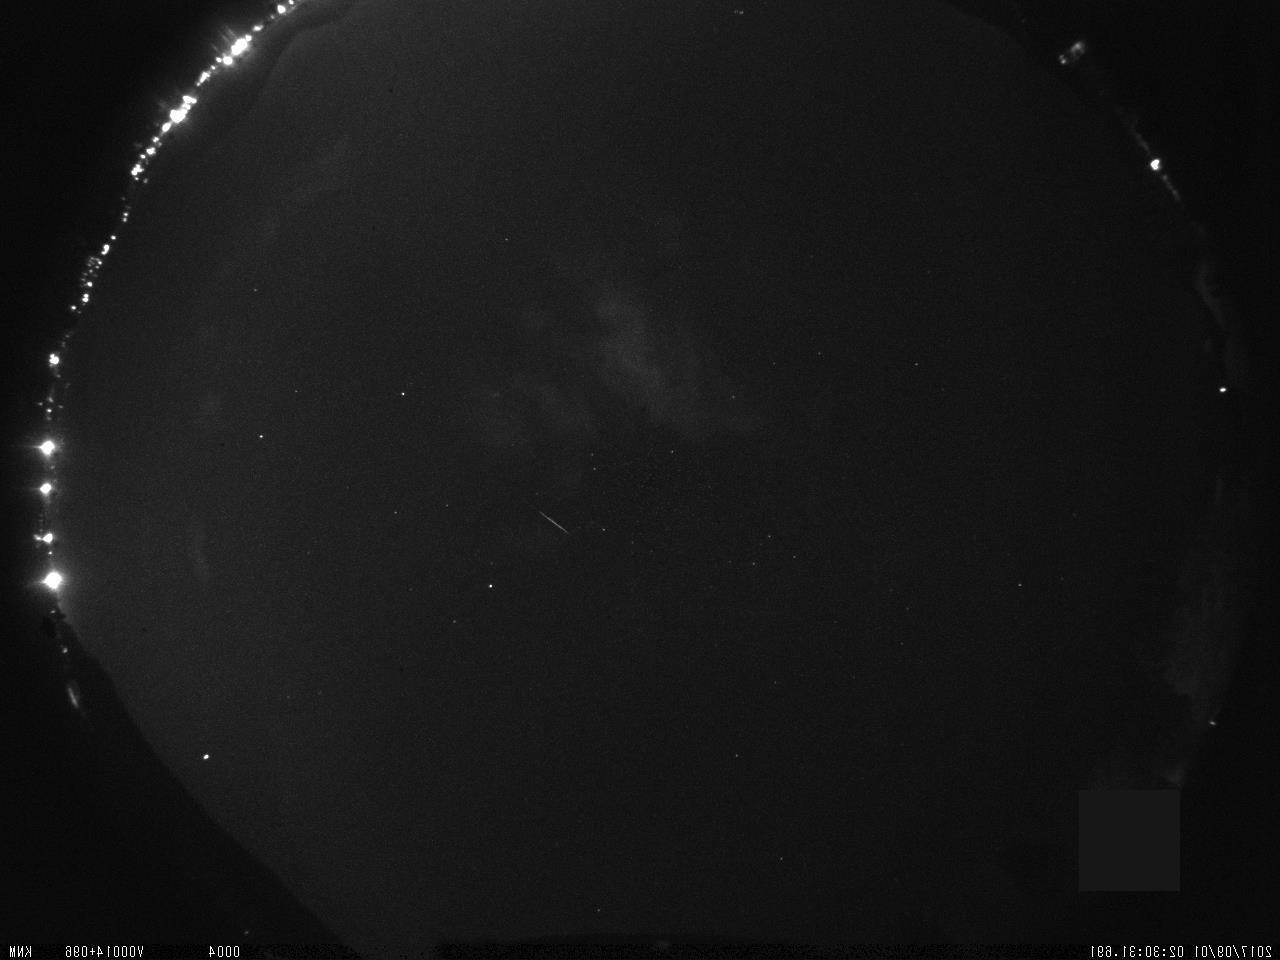meteor: (523, 497, 579, 547)
